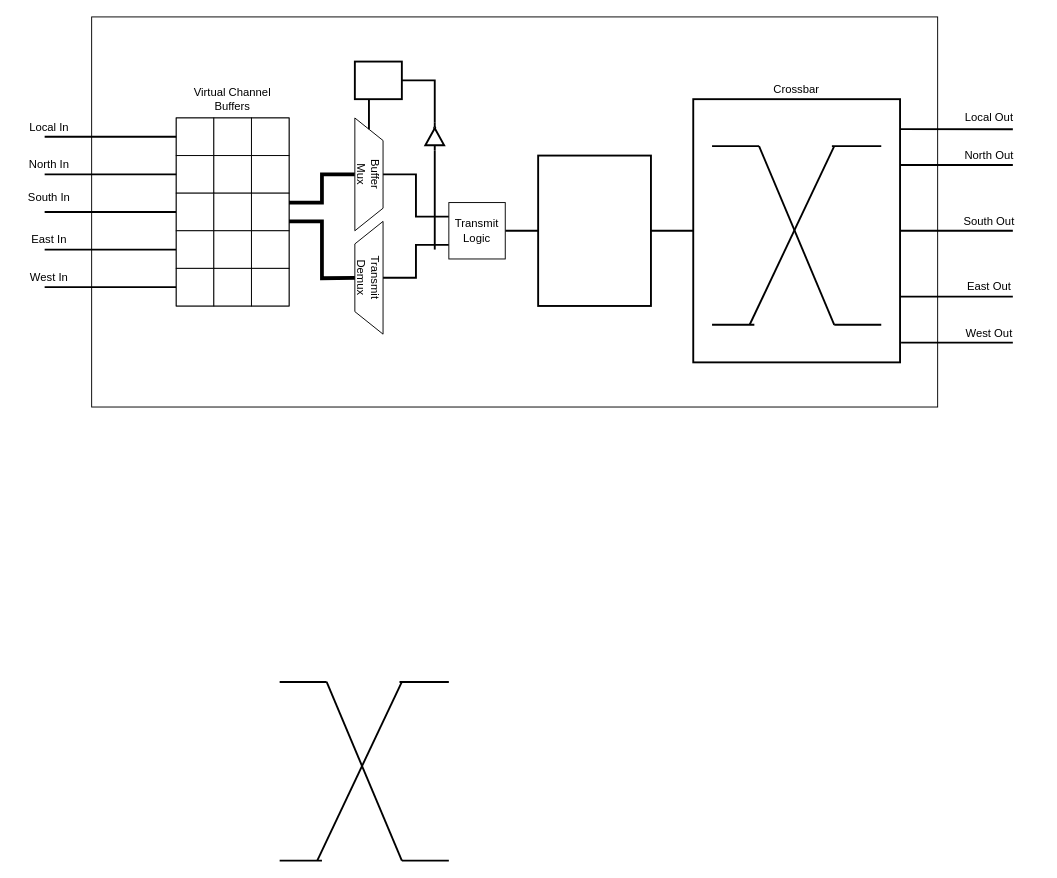
Some shapes in this 1057 by 878 pixel diagram are drawn without their labels. The shapes that lost their labels are listed below. From the top down, each one's centre as x and y in pixels, then its label:
[377,80]: Counter
[594,230]: Lookup Table
